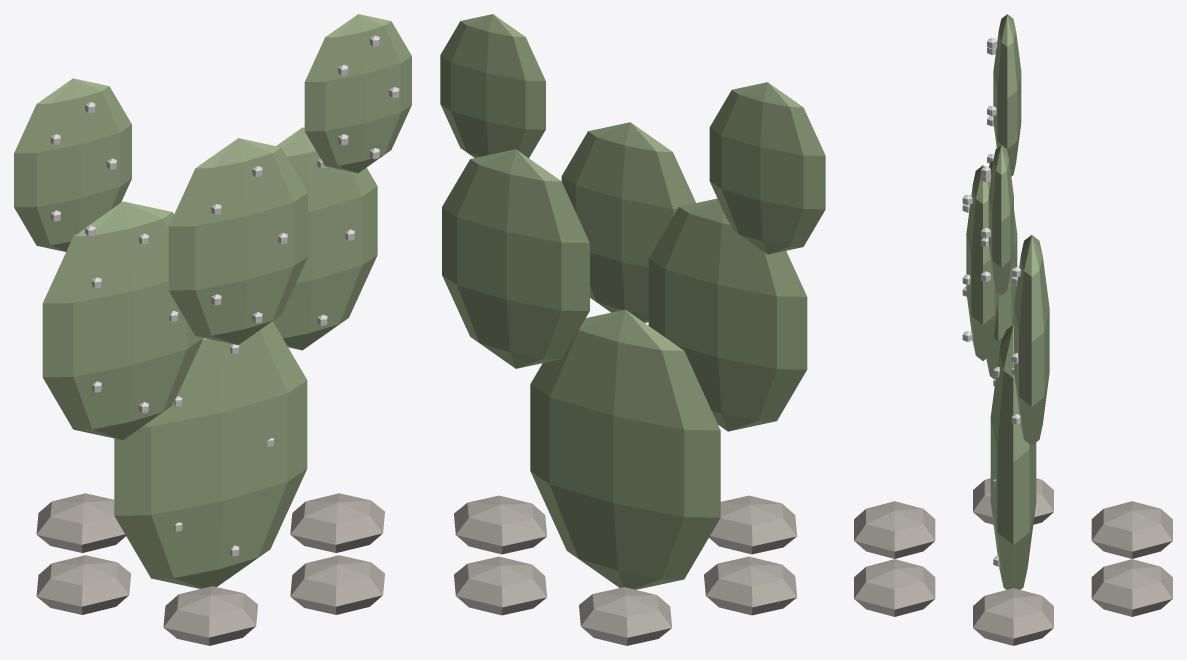
Rendered from greek-island-village-and-harbour-prickly-pear-20255a64__37097.glb.
3 views of the same model, side by side, from view 1: azimuth 30°, elevation 25°; view 2: azimuth 150°, elevation 25°; view 3: azimuth 270°, elevation 25° (orthographic). The views are drawn at different scales.
Parts seen in each view (by area): view 1: prickly-pear; view 2: prickly-pear; view 3: prickly-pear.
Boxes of the visible parts, left/top/right/bottom form: prickly-pear: left=14, top=14, right=411, bottom=645; prickly-pear: left=440, top=14, right=825, bottom=645; prickly-pear: left=854, top=14, right=1172, bottom=645.
Bounding box in the file's own units: 1.4 × 1.86 × 1.05.
3 materials, 2 textured.
